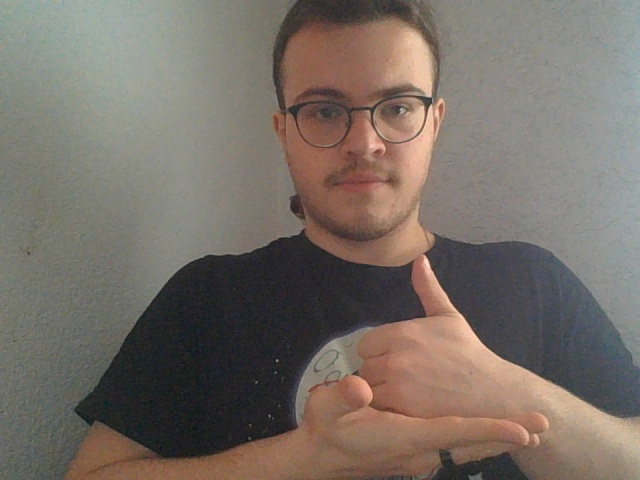Help: (301, 252, 551, 478)
